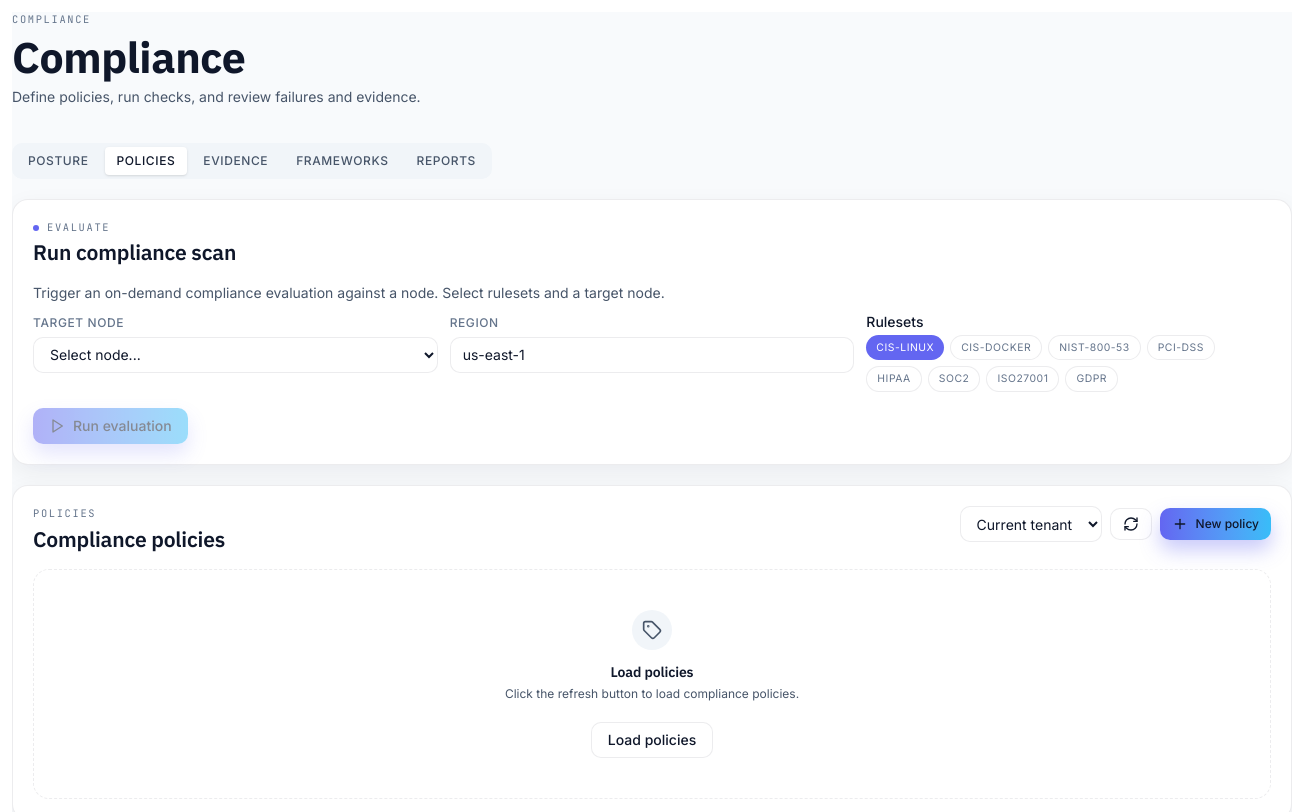
Compliance policies › shows explicit unavailable state when policy loading fails
The image size is (1292, 812).
Click the button "Load policies".
click(652, 740)  # box x1=591 y1=722 x2=713 y2=758
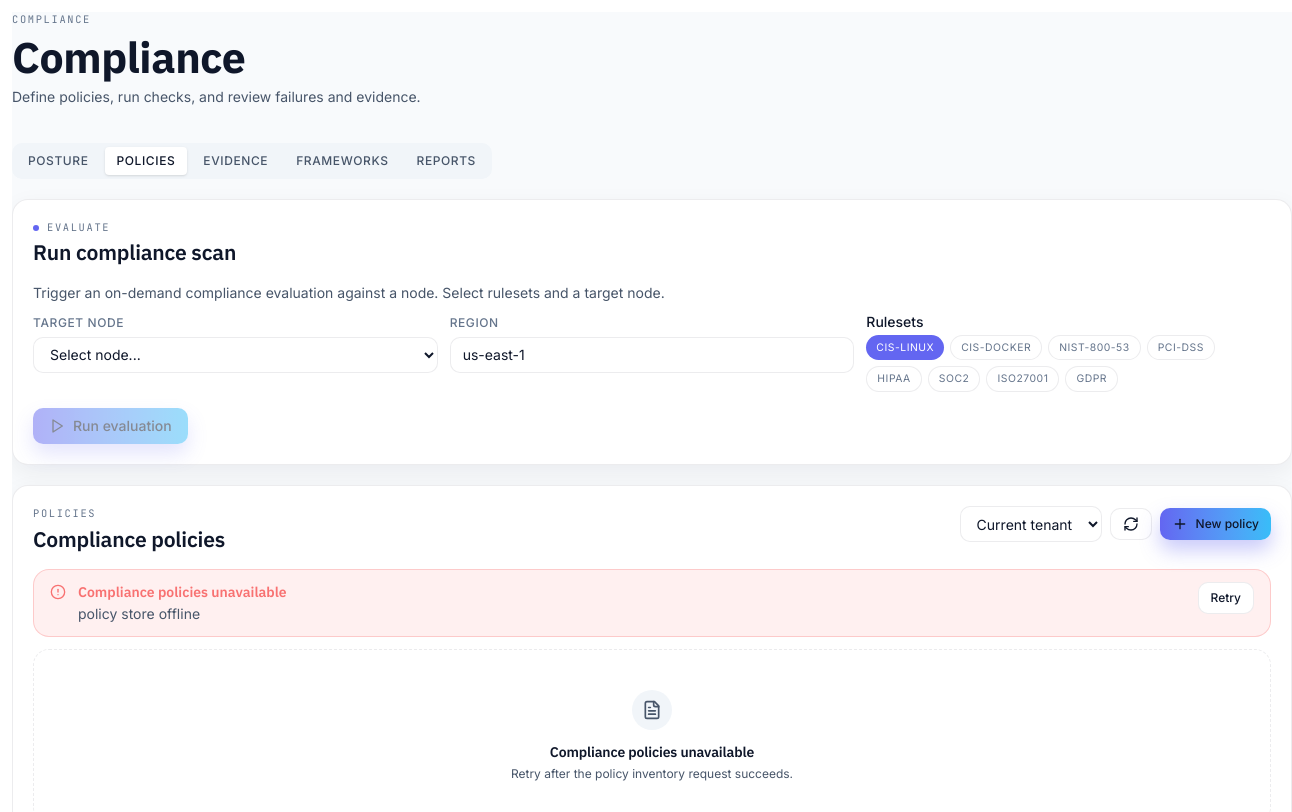
expect the text "Compliance policies unavailable" is shown 2 times: met, box x1=78 y1=583 x2=287 y2=601; x1=550 y1=743 x2=754 y2=761
expect the message shows "policy store offline": met, box x1=78 y1=605 x2=200 y2=622
